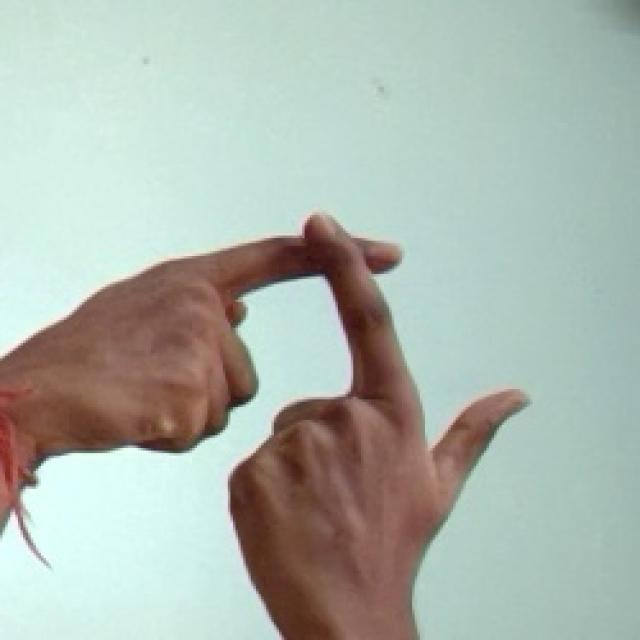Alphabet-J: (53, 211, 548, 640)
